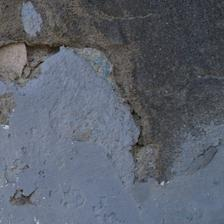Crack: (43, 0, 91, 133), (13, 35, 57, 128)
